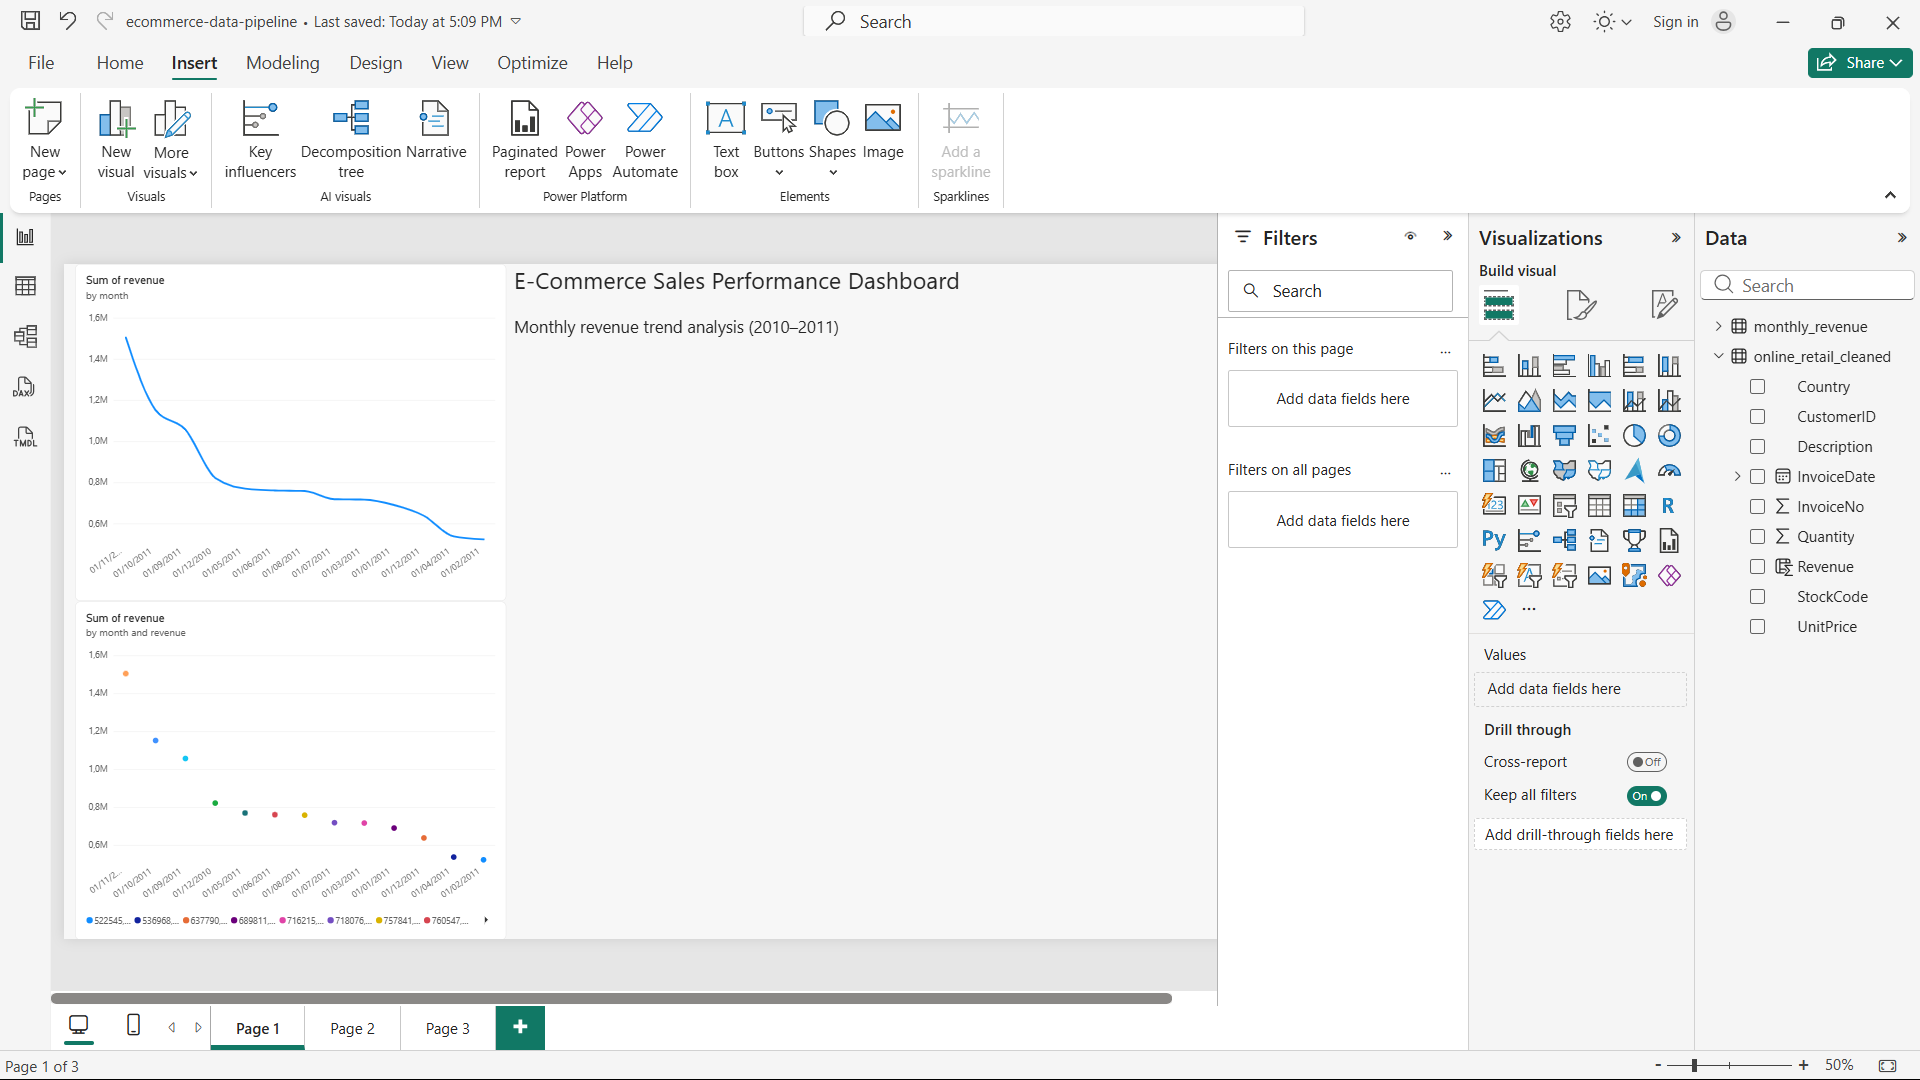

What the dashboard file says about the page in this screenshot:
{"tool":"powerbi","page":{"name":"Page 1","canvas":[1920,1080],"ordinal":0},"visuals":[{"type":"lineChart","fields":{"Category":["monthly_revenue.month"],"Series":["monthly_revenue.revenue"],"Y":["Sum(monthly_revenue.revenue)"]},"box":[19,750,461,330],"z":2000},{"type":"lineChart","fields":{"Category":["monthly_revenue.month"],"Y":["Sum(monthly_revenue.revenue)"]},"box":[19,0,461,330],"z":2001}]}

Visuals, with their boxes on the page's 1920x1080 design canvas (x1, y1, x2, y2). These are canvas units, not pixel positions in the 1920x1080 screenshot, which may show the page scaled, cropped or inside an application window:
lineChart - monthly_revenue.month x monthly_revenue.revenue: BBox(19, 750, 480, 1080)
lineChart - monthly_revenue.month x Sum(monthly_revenue.revenue): BBox(19, 0, 480, 330)
